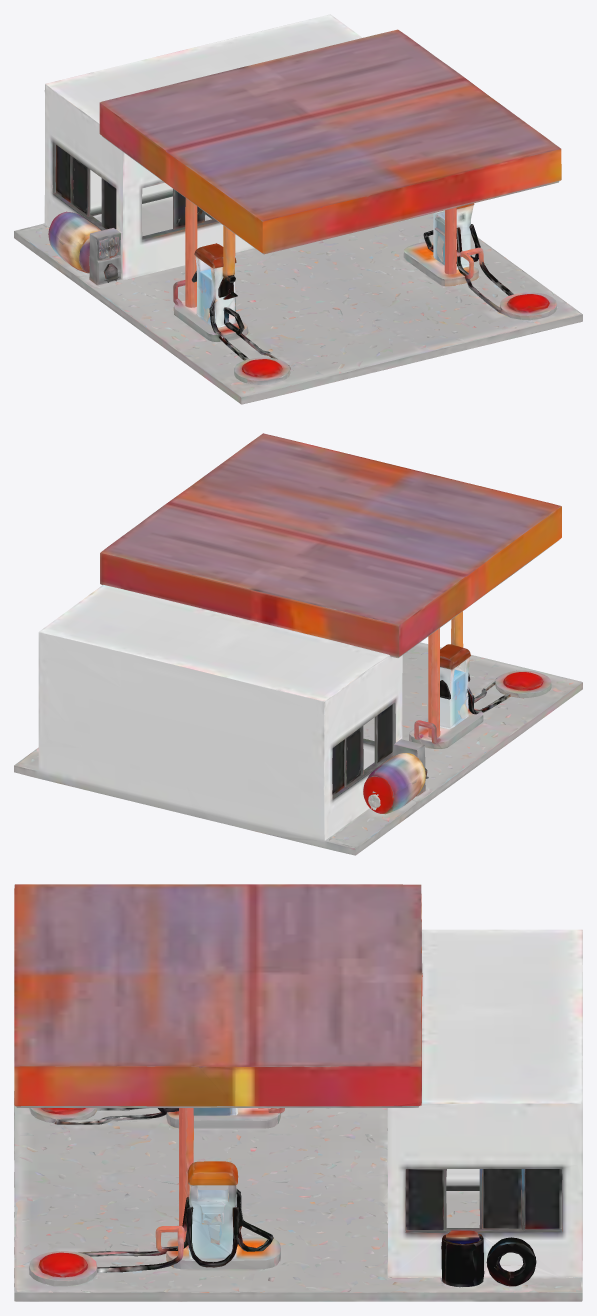
Rendered from gas-station.glb.
3 views of the same model, one above another, from view 1: azimuth 30°, elevation 25°; view 2: azimuth 150°, elevation 25°; view 3: azimuth 270°, elevation 25° (orthographic). The views are drawn at different scales.
Parts seen in each view (by area): view 1: geometry_0; view 2: geometry_0; view 3: geometry_0.
Part boxes in pixels (x1,y1,x2,y2): geometry_0: (14,14,582,404); geometry_0: (14,433,582,855); geometry_0: (14,884,582,1301).
Bounding box in the file's own units: 0.8825 × 0.4332 × 1.
1 material, 1 textured.
